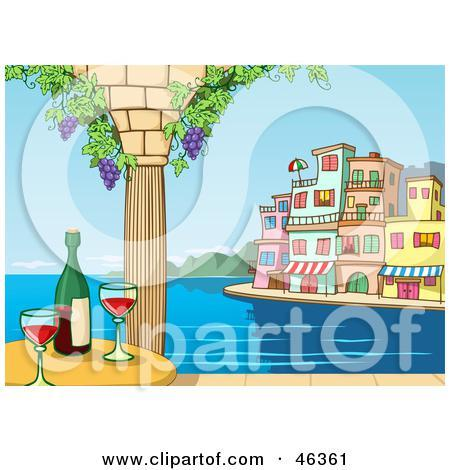bottle: (45, 220, 98, 357)
